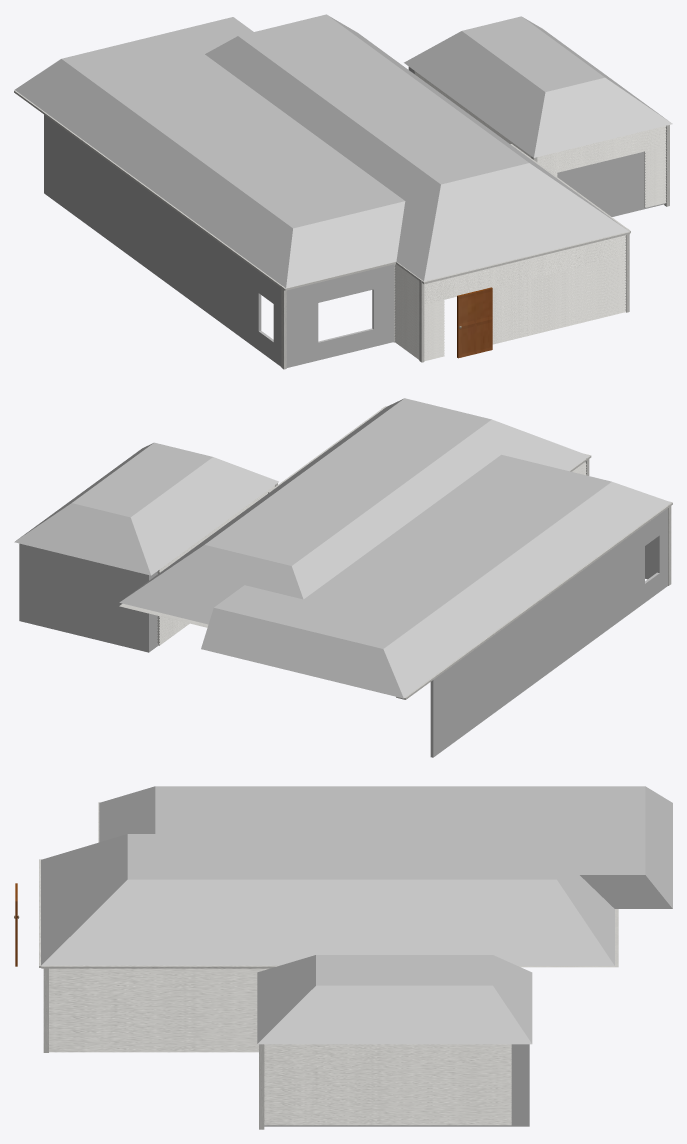
The model's file is outside.fbx.
3 renders of one model, top to bottom at view 1: azimuth 30°, elevation 25°; view 2: azimuth 150°, elevation 25°; view 3: azimuth 270°, elevation 25°, orthographic. The views are drawn at different scales.
Parts seen in each view (by area): view 1: Cube.125, Cube.158, Cube.124, Cube.122, Cube.121, Cube.157, Cube.271, Cube.123, Cube.087, Cube.084, Cube.082, Cube.081 (+4 smaller); view 2: Cube.125, Cube.158, Cube.122, Cube.124, Cube.157, Cube.123; view 3: Cube.158, Cube.125, Cube.124, Cube.157, Cube.209, Cube.210, Cube.211, Cube.216, Cube.217, Cube.218, Cube.221, Cube.222 (+52 smaller).
Boxes of the visible parts, bbox=[...] form: Cube.125: bbox=[15, 17, 405, 288]; Cube.158: bbox=[205, 14, 628, 281]; Cube.124: bbox=[404, 16, 672, 157]; Cube.122: bbox=[44, 114, 281, 366]; Cube.121: bbox=[286, 264, 394, 367]; Cube.157: bbox=[408, 67, 665, 216]; Cube.271: bbox=[457, 287, 492, 358]; Cube.123: bbox=[14, 90, 395, 290]; Cube.087: bbox=[417, 231, 630, 284]; Cube.084: bbox=[424, 236, 625, 288]; Cube.082: bbox=[424, 242, 625, 293]; Cube.081: bbox=[424, 245, 625, 296]; Cube.125: bbox=[201, 454, 670, 698]; Cube.158: bbox=[119, 398, 589, 624]; Cube.122: bbox=[430, 508, 667, 757]; Cube.124: bbox=[14, 442, 278, 575]; Cube.157: bbox=[19, 543, 158, 652]; Cube.123: bbox=[396, 501, 672, 699]; Cube.158: bbox=[41, 834, 614, 965]; Cube.125: bbox=[99, 786, 672, 908]; Cube.124: bbox=[257, 955, 532, 1044]; Cube.157: bbox=[264, 1044, 529, 1126]; Cube.209: bbox=[264, 1122, 511, 1125]; Cube.210: bbox=[264, 1119, 511, 1122]; Cube.211: bbox=[264, 1116, 511, 1119]; Cube.216: bbox=[264, 1102, 511, 1105]; Cube.217: bbox=[264, 1099, 511, 1102]; Cube.218: bbox=[264, 1096, 511, 1099]; Cube.221: bbox=[264, 1088, 511, 1091]; Cube.222: bbox=[264, 1085, 511, 1088].
Size of what is drawn, in the model's own units: 1196 by 340 by 1394.
